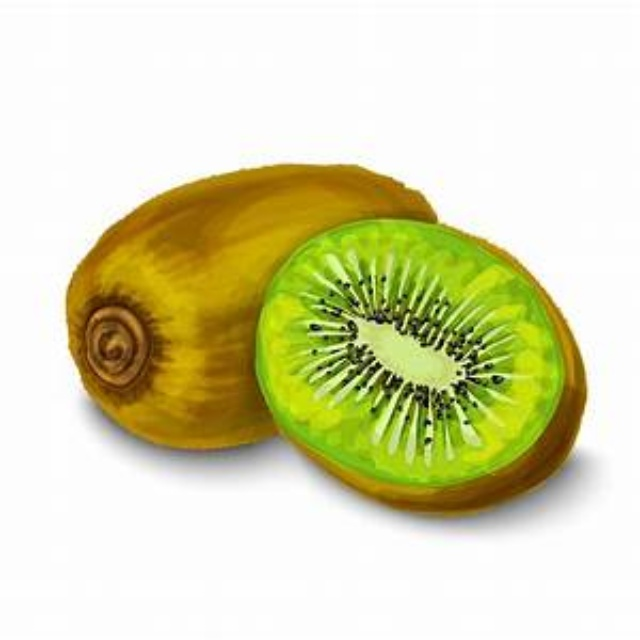kiwi: (45, 147, 414, 460), (241, 213, 600, 510)
